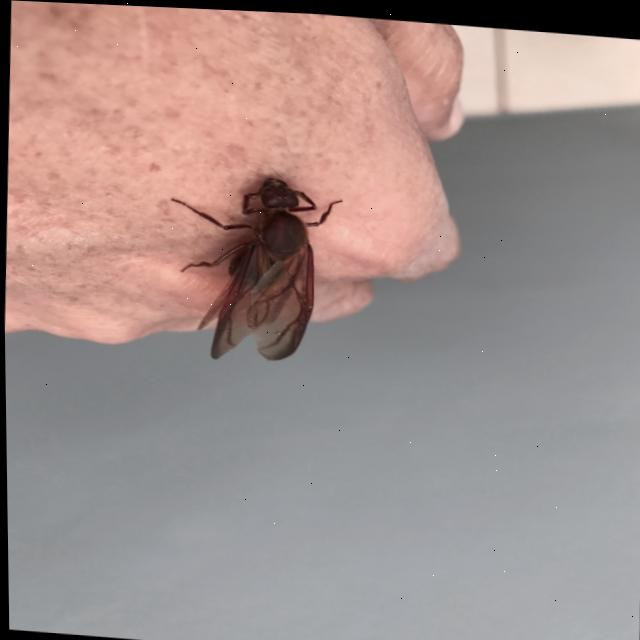Alive-Female-Alate: (163, 167, 345, 366)
